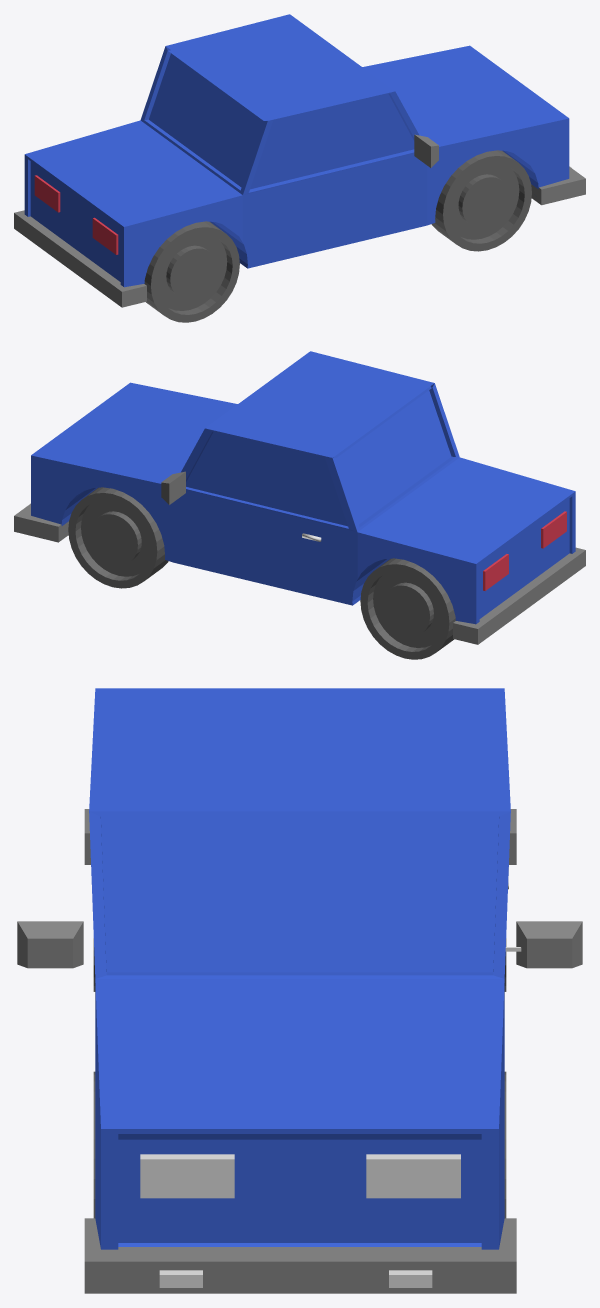
File: Car.glb
3 renders of one model, top to bottom at view 1: azimuth 30°, elevation 25°; view 2: azimuth 150°, elevation 25°; view 3: azimuth 270°, elevation 25°, orthographic. The views are drawn at different scales.
Parts seen in each view (by area): view 1: Body, Wheel, Cube.001, Cube, Cube.002, Cube.009, Cube.010; view 2: Body, Wheel, Cube.001, Cube, Cube.002, Cube.009, Cube.010; view 3: Body, Cube, Cube.002, Cube.005, Cube.006, Wheel, Cube.007, Cube.008, Cube.001.
Part boxes in pixels (x1,y1,x2,y2): Body: [24, 14, 569, 287]; Wheel: [144, 150, 531, 322]; Cube.001: [14, 210, 146, 307]; Cube: [531, 166, 585, 205]; Cube.002: [414, 134, 438, 167]; Cube.009: [92, 217, 118, 254]; Cube.010: [34, 175, 60, 212]; Body: [31, 351, 575, 624]; Wheel: [68, 487, 455, 659]; Cube.001: [453, 547, 585, 644]; Cube: [14, 503, 68, 542]; Cube.002: [161, 471, 185, 504]; Cube.009: [541, 511, 566, 548]; Cube.010: [483, 554, 508, 590]; Body: [89, 688, 510, 1249]; Cube: [84, 1218, 516, 1293]; Cube.002: [17, 921, 582, 968]; Cube.005: [140, 1154, 234, 1198]; Cube.006: [366, 1154, 460, 1198]; Wheel: [93, 938, 506, 1218]; Cube.007: [159, 1270, 202, 1287]; Cube.008: [389, 1270, 432, 1287]; Cube.001: [84, 809, 516, 864].
Size of the model in its own units: 10.53 by 3.92 by 5.5.
